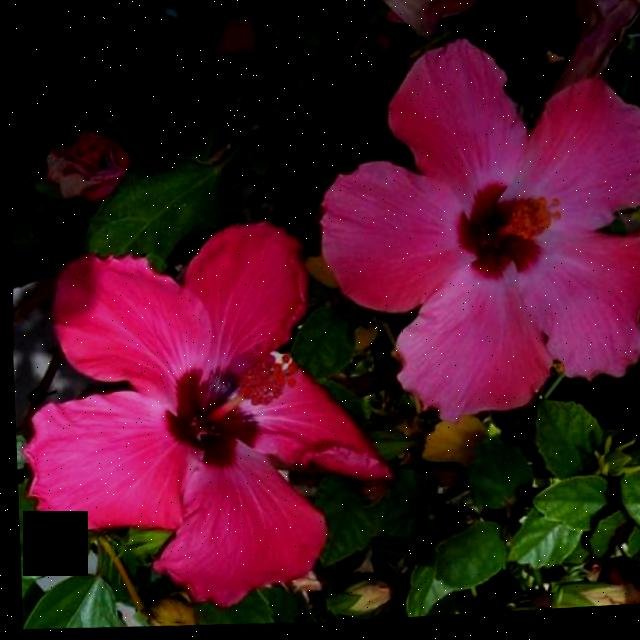hibiscus: (6, 193, 402, 640), (305, 11, 640, 443)
